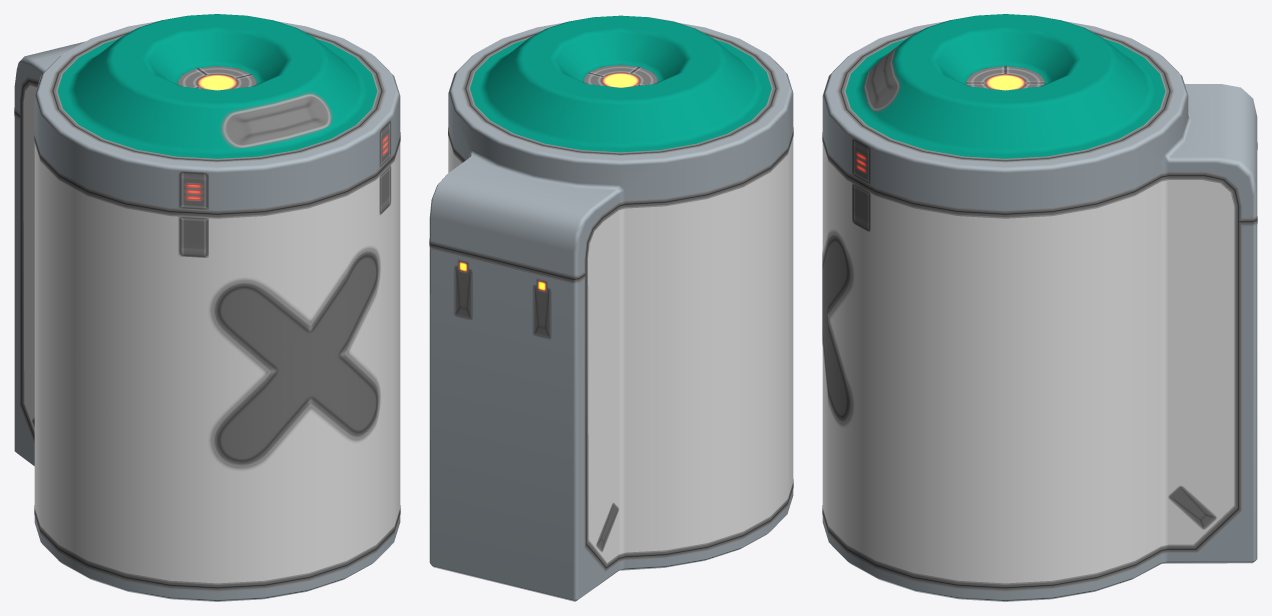
File: cargo-locker.glb
3 views of the same model, side by side, from view 1: azimuth 30°, elevation 25°; view 2: azimuth 150°, elevation 25°; view 3: azimuth 270°, elevation 25° (orthographic). The views are drawn at different scales.
Visible parts, largest first — view 1: Container003, Container003_d; view 2: Container003, Container003_d; view 3: Container003, Container003_d.
Boxes of the visible parts, x1,y1,x2,y2 form: Container003: [14, 14, 400, 601]; Container003_d: [14, 29, 400, 591]; Container003: [429, 15, 793, 601]; Container003_d: [429, 20, 793, 571]; Container003: [822, 14, 1257, 601]; Container003_d: [822, 29, 1257, 591].
Bounding box in the file's own units: 0.5013 × 0.7065 × 0.5956.
4 materials, 1 textured.
